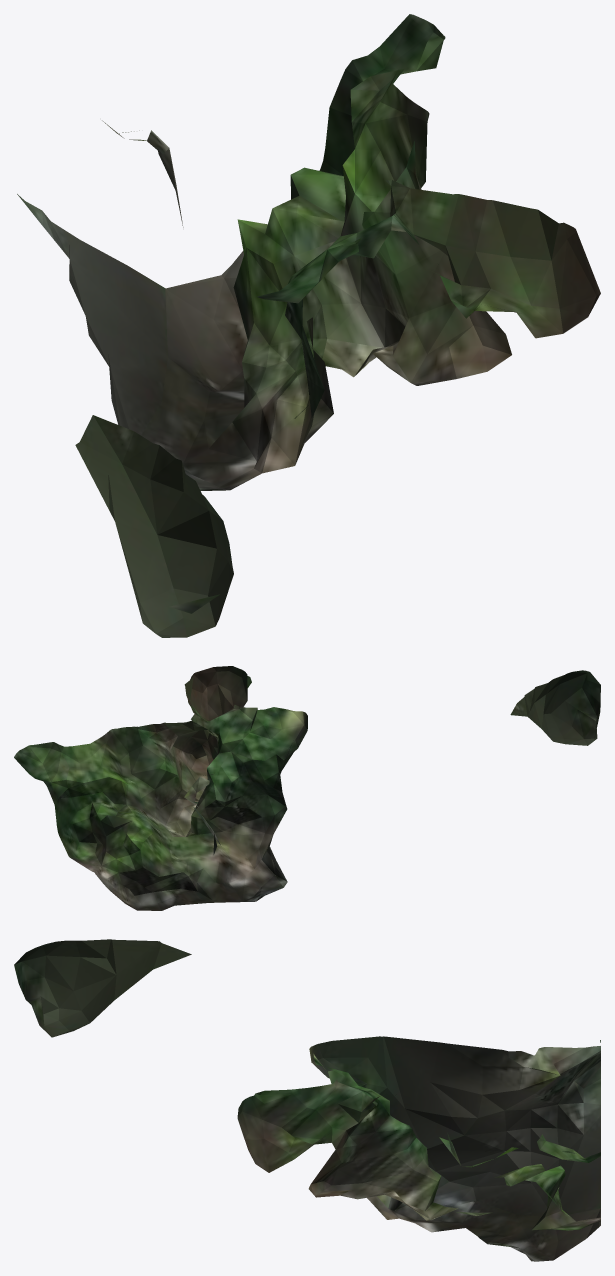
The picture shows the model from 3 angles, top to bottom: view 1: azimuth 30°, elevation 25°; view 2: azimuth 150°, elevation 25°; view 3: azimuth 270°, elevation 25°; orthographic projection. The views are drawn at different scales.
Size of the model in its own units: 19.34 by 7.35 by 22.33.
Materials: 1 (1 with a texture image).
